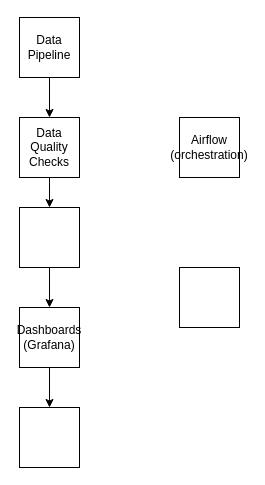
Some shapes in this 265 by 485 pixel diagram are drawn without their labels. Each missing label, with the box of its shape:
Alerts (Slack): (18, 406, 80, 468)
Metrics & Lineage: (18, 206, 80, 268)
